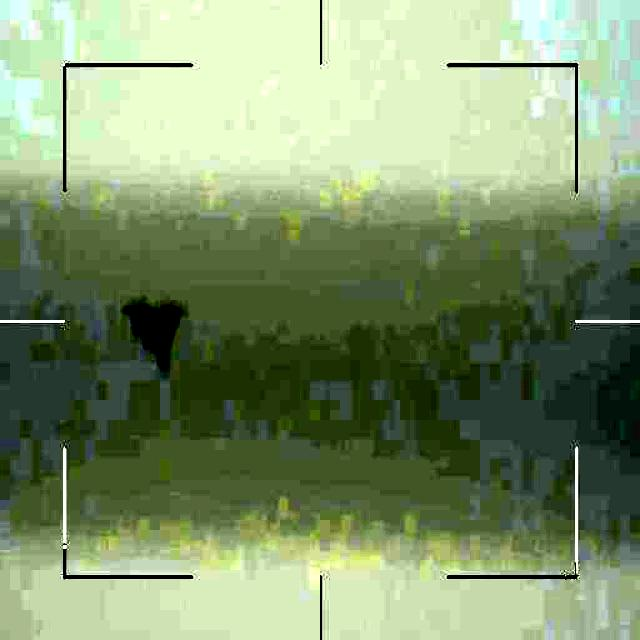bird: (125, 296, 189, 378)
